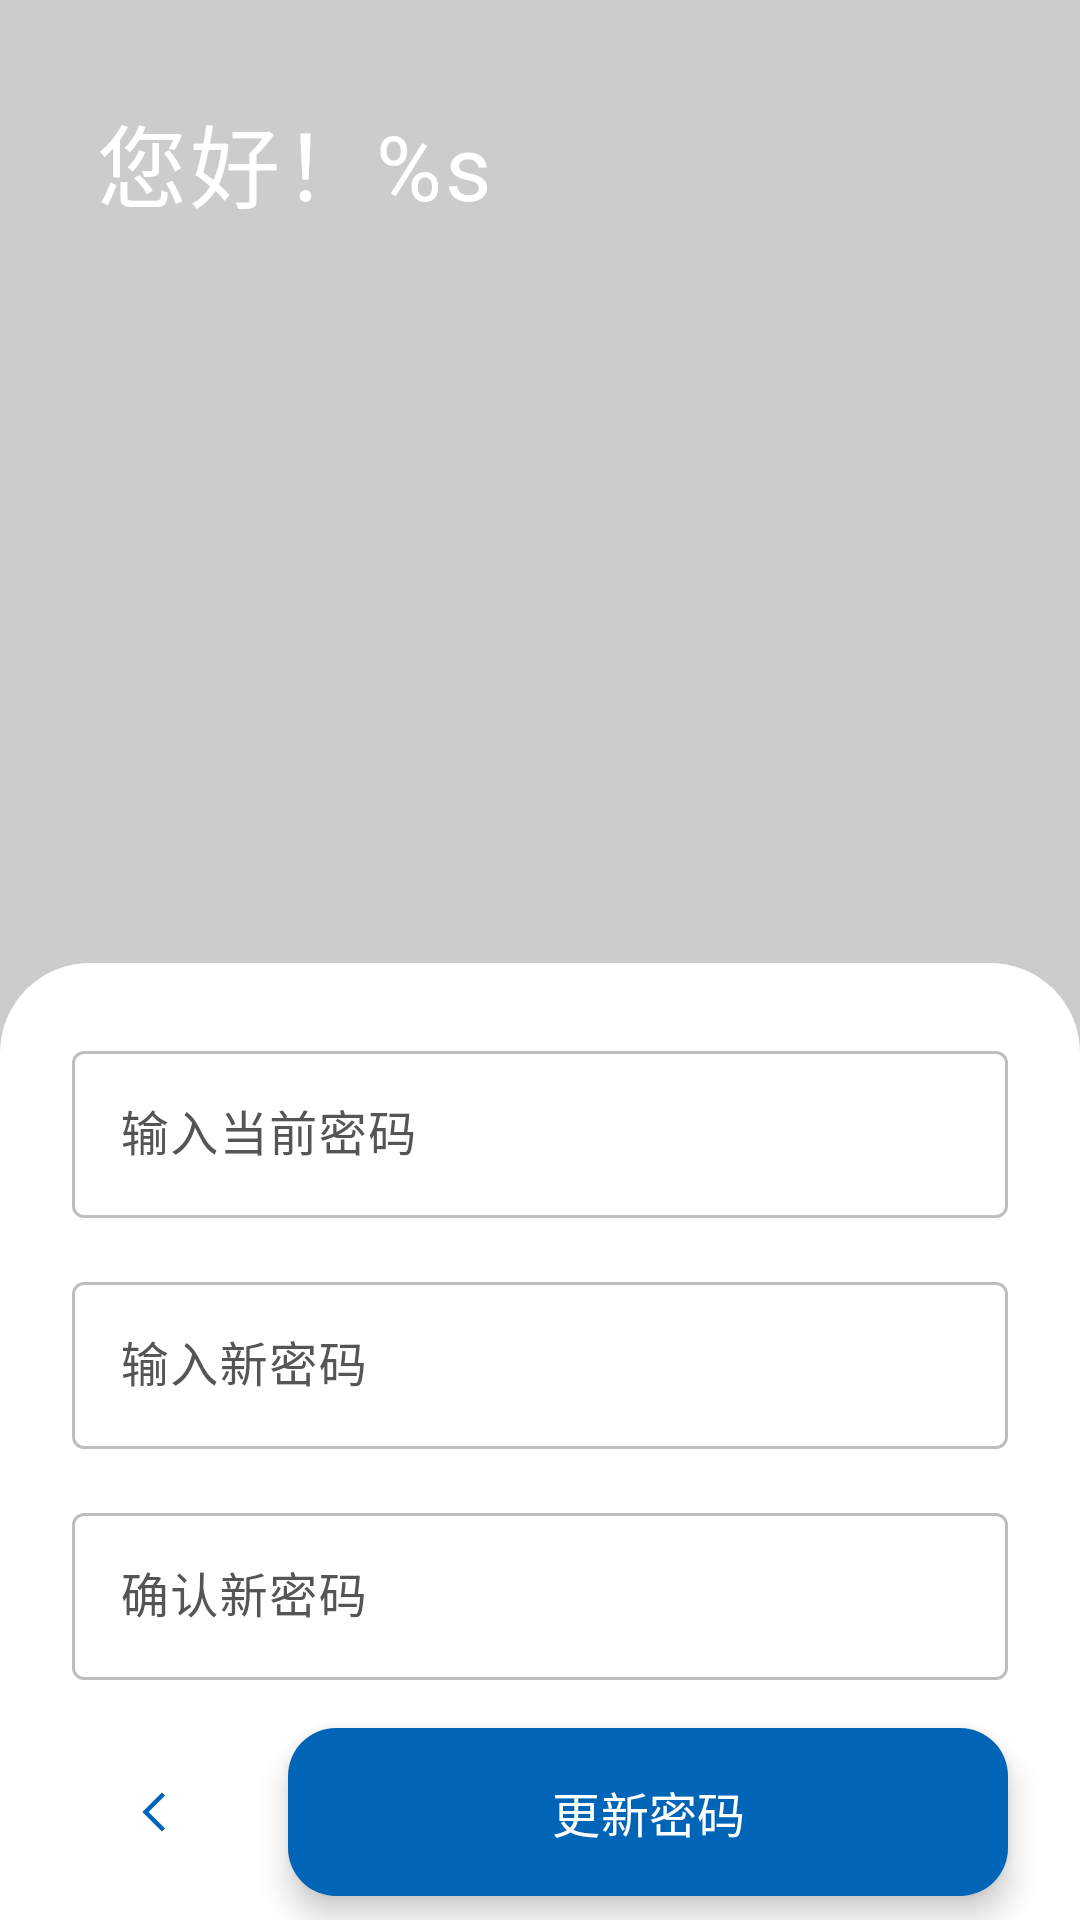

Icons on this 1080 x 1920 Android screen, each with its box as (x1, y1, x2, y2):
返回: (142, 1792, 165, 1832)
